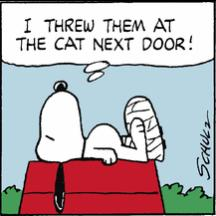snoopy: (32, 77, 166, 215)
